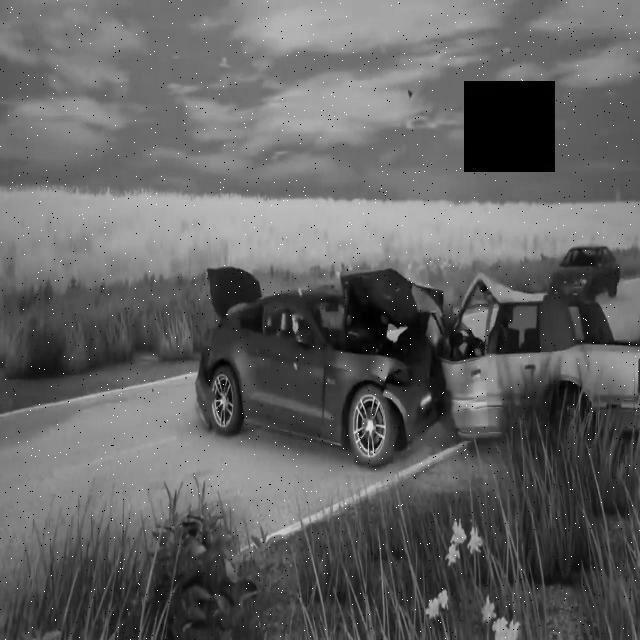accident: (190, 245, 640, 477)
vehicle: (556, 237, 623, 311)
